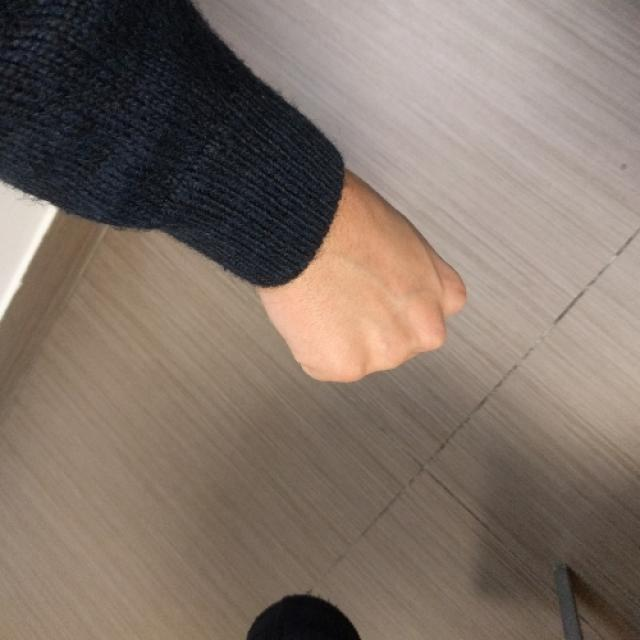rock: (265, 200, 473, 384)
